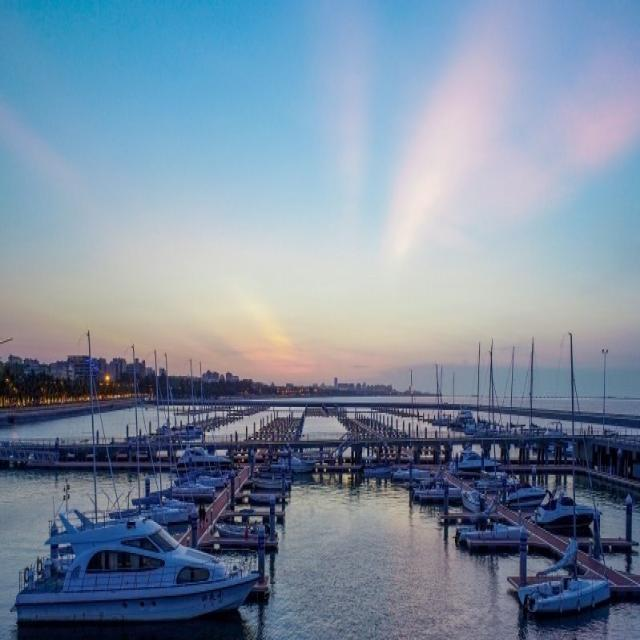houseboat: (23, 522, 260, 640), (538, 490, 585, 530)
